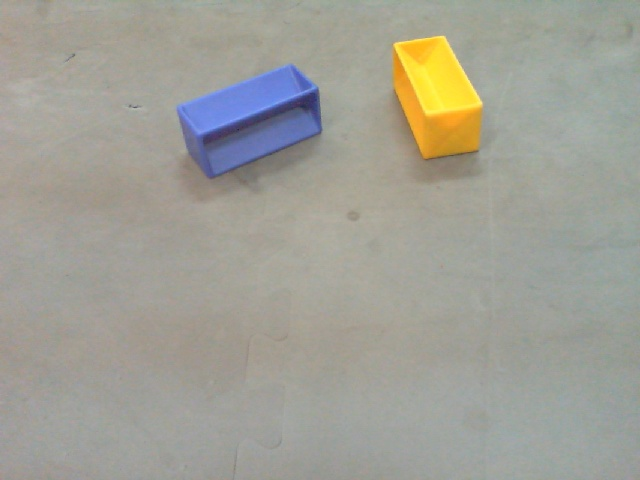BlueSample: (175, 63, 324, 182)
YellowSample: (390, 34, 484, 160)
